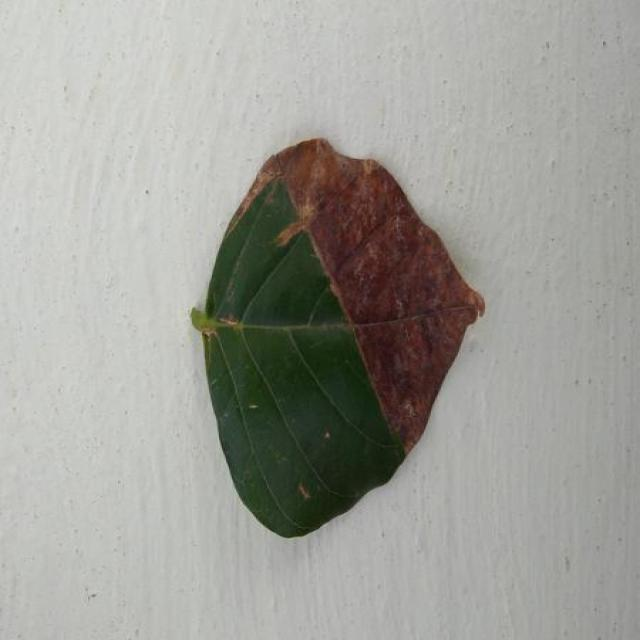honge: (192, 139, 483, 537)
leaf rust: (260, 139, 483, 449)
